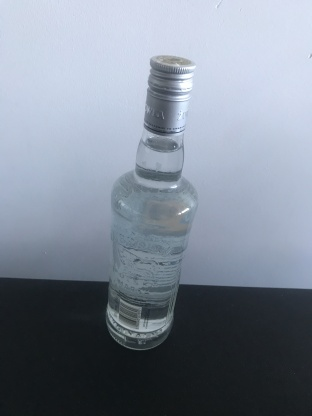nakretka: (141, 53, 196, 136)
